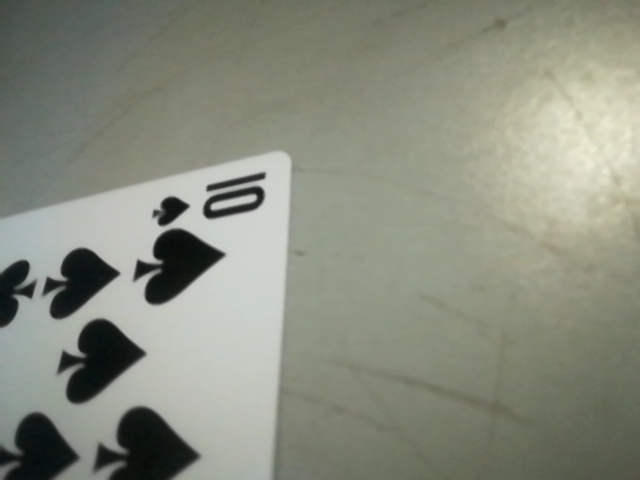ht 10: (147, 167, 292, 236)
